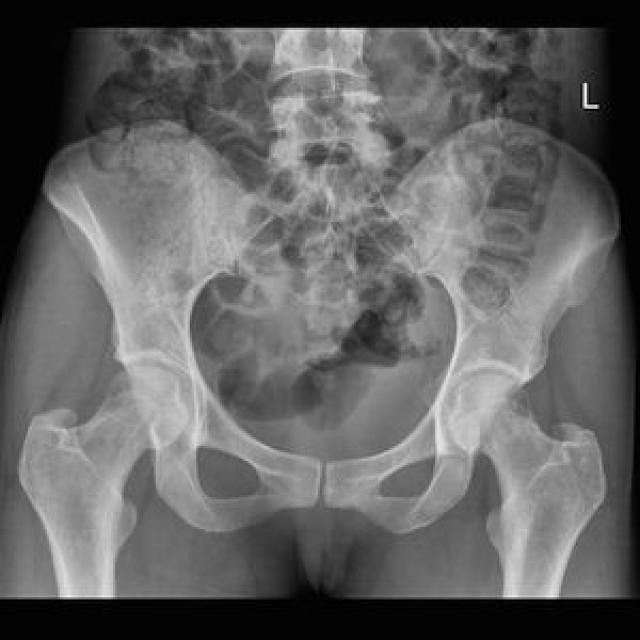normal-left: (449, 373, 606, 599)
normal-right: (18, 365, 191, 600)
